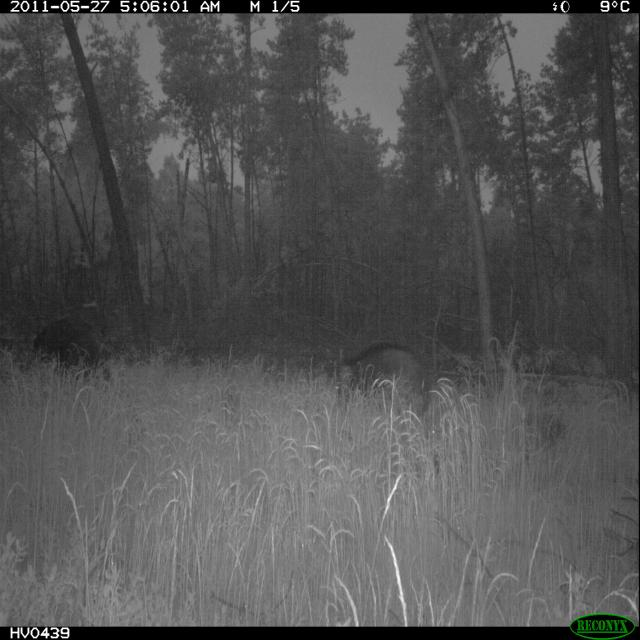boar: (18, 298, 137, 400), (326, 328, 434, 433)
